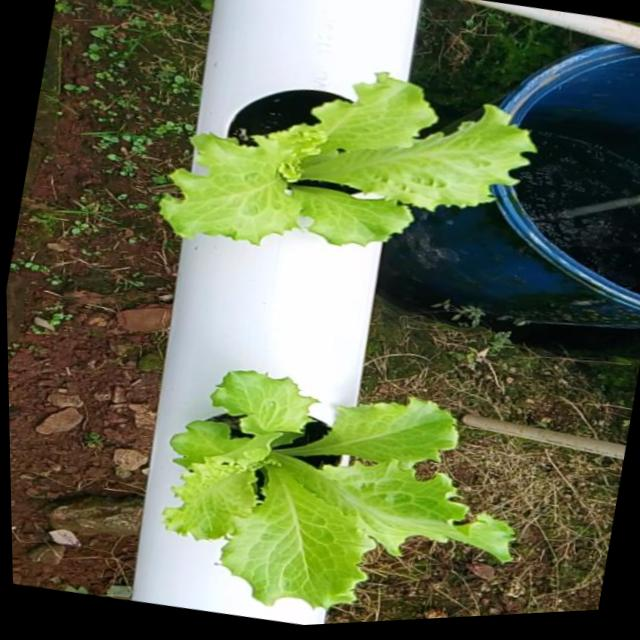Baby: (161, 372, 514, 610), (160, 70, 536, 244)
